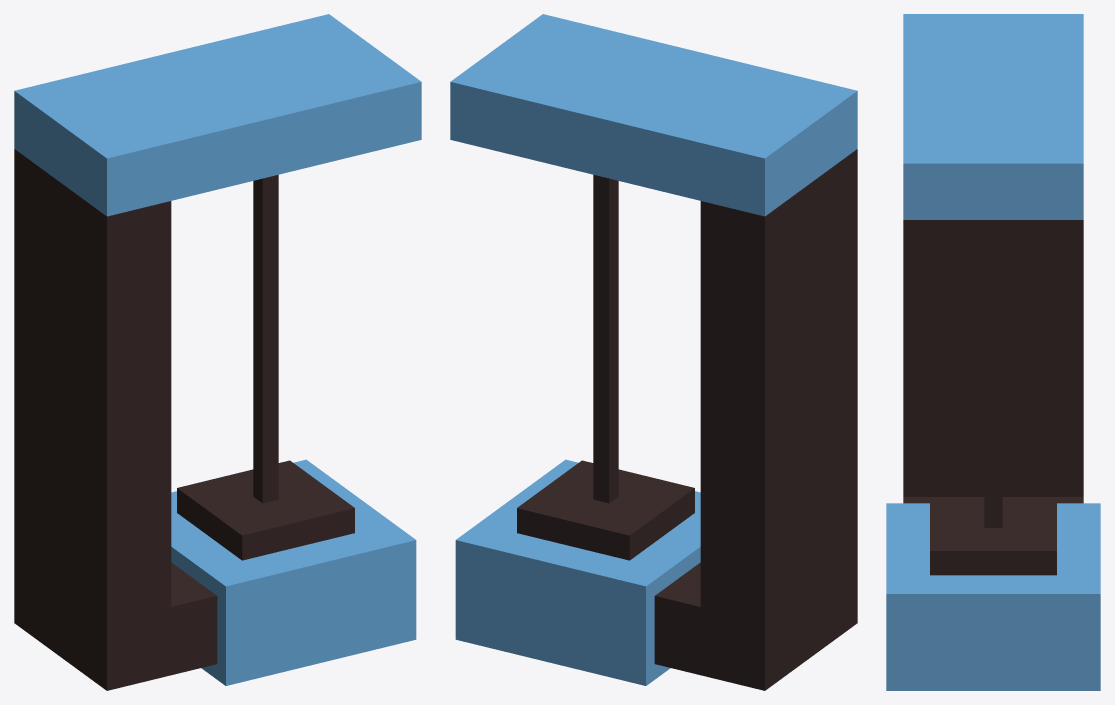
Rendered from OxygenCylinderHolder.fbx.
The picture shows the model from 3 angles, left to right: view 1: azimuth 30°, elevation 25°; view 2: azimuth 150°, elevation 25°; view 3: azimuth 270°, elevation 25°; orthographic projection. The views are drawn at different scales.
Visible parts, largest first — view 1: Cube; view 2: Cube; view 3: Cube.
Part boxes in pixels (x1,y1,x2,y2): Cube: [14, 14, 421, 690]; Cube: [450, 14, 857, 690]; Cube: [886, 14, 1100, 690].
Bounding box in the file's own units: 661 × 1100 × 400.
